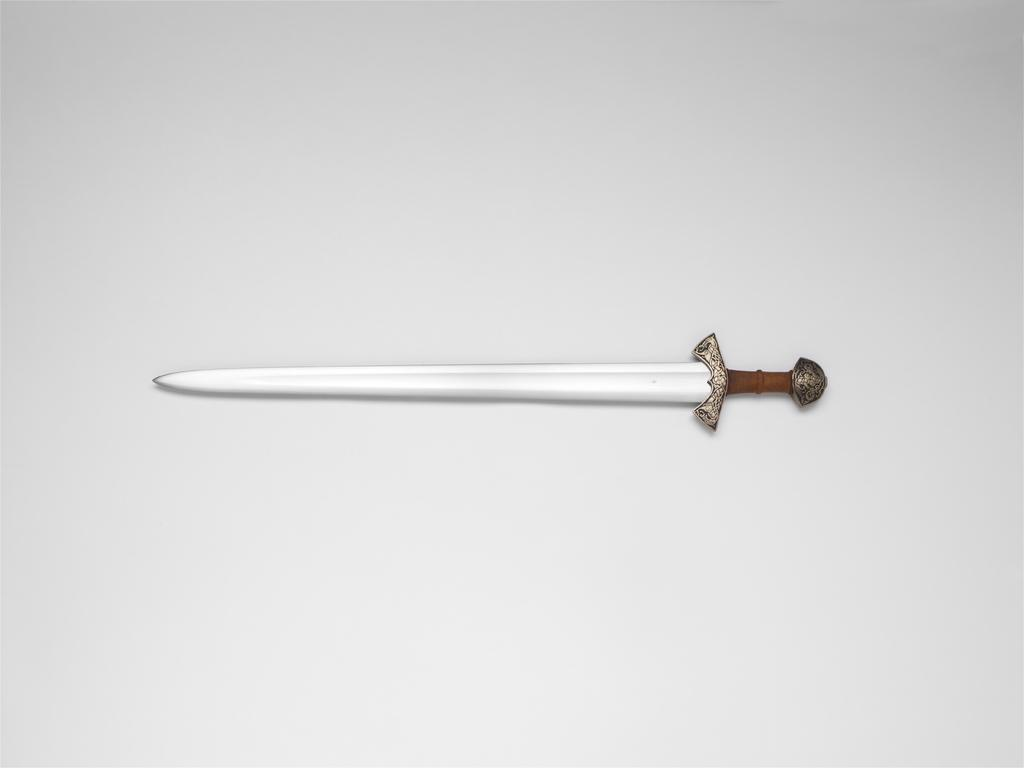Sword: (151, 331, 828, 431), (150, 331, 827, 430)
